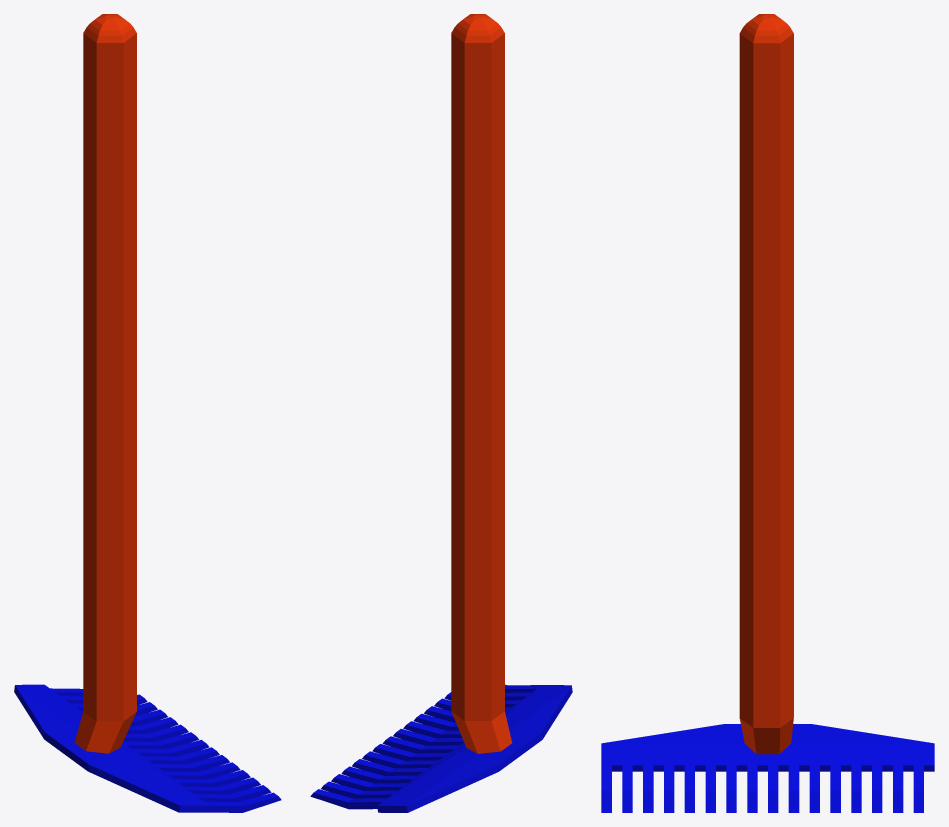
Rendered from Rake.fbx.
3 renders of one model, left to right at view 1: azimuth 30°, elevation 25°; view 2: azimuth 150°, elevation 25°; view 3: azimuth 270°, elevation 25°, orthographic.
Parts seen in each view (by area): view 1: Rake; view 2: Rake; view 3: Rake.
Boxes of the visible parts, x1=… form: Rake: x1=14, y1=14, x2=281, y2=812; Rake: x1=310, y1=14, x2=572, y2=812; Rake: x1=601, y1=14, x2=934, y2=812.
Size of the model in its own units: 573 by 3075 by 1229.
